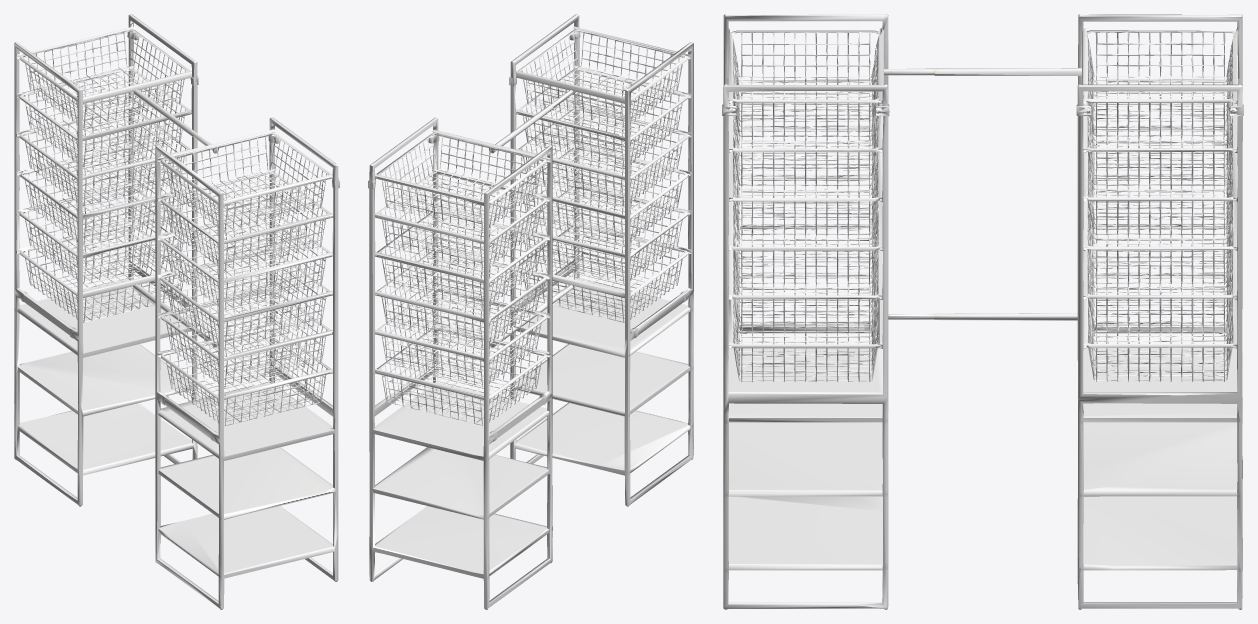
File: jonaxel_kombinacja_szafy_79305102.glb
3 renders of one model, left to right at view 1: azimuth 30°, elevation 25°; view 2: azimuth 150°, elevation 25°; view 3: azimuth 270°, elevation 25°, orthographic. The views are drawn at different scales.
Parts seen in each view (by area): view 1: jonaxel_kombinacja_szafy_79305102; view 2: jonaxel_kombinacja_szafy_79305102; view 3: jonaxel_kombinacja_szafy_79305102.
Part boxes in pixels (x1=…): jonaxel_kombinacja_szafy_79305102: x1=14, y1=14, x2=339, y2=609; jonaxel_kombinacja_szafy_79305102: x1=368, y1=14, x2=693, y2=609; jonaxel_kombinacja_szafy_79305102: x1=722, y1=14, x2=1243, y2=609.
Bounding box in the file's own units: 0.5202 × 1.74 × 1.57.
1 material, 1 textured.
